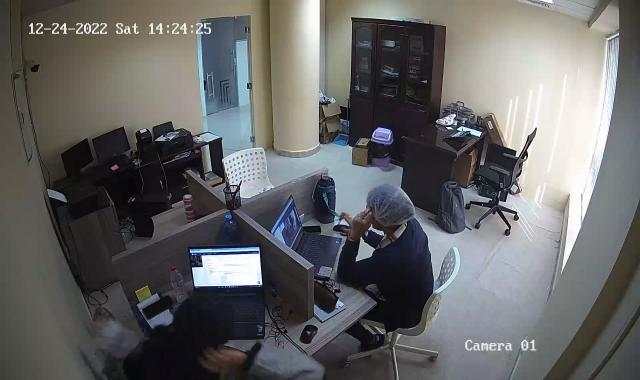hairnet: (369, 185, 416, 227)
no_hairnet: (166, 292, 230, 357)
